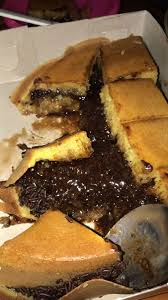Martabak manis: (0, 206, 123, 290), (22, 37, 100, 121), (114, 117, 168, 190), (102, 77, 168, 128), (101, 36, 156, 88)
